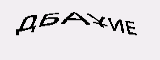А: (60, 6, 89, 27)
Б: (39, 6, 60, 29)
Д: (15, 12, 36, 34)
Е: (122, 16, 140, 38)
И: (108, 14, 125, 36)
Ұ: (87, 11, 109, 30)
